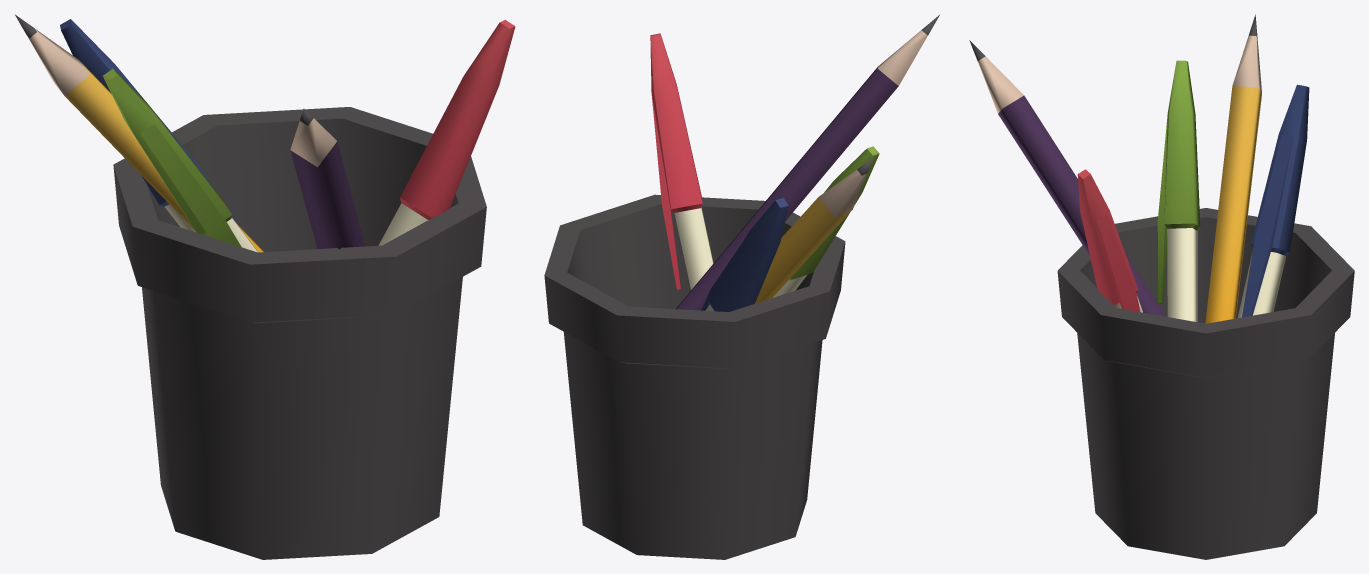
The model's file is SM_Pencil_Cup_2_01.fbx.
3 views of the same model, side by side, from view 1: azimuth 30°, elevation 25°; view 2: azimuth 150°, elevation 25°; view 3: azimuth 270°, elevation 25° (orthographic). The views are drawn at different scales.
Parts seen in each view (by area): view 1: SM_Pencil_Cup_2_01; view 2: SM_Pencil_Cup_2_01; view 3: SM_Pencil_Cup_2_01.
Part boxes in pixels (box(x1,y1,x2,y2)): SM_Pencil_Cup_2_01: box(15, 14, 515, 559); SM_Pencil_Cup_2_01: box(544, 15, 939, 559); SM_Pencil_Cup_2_01: box(969, 14, 1354, 559).
Bounding box in the file's own units: 16.47 × 20.28 × 16.99.
